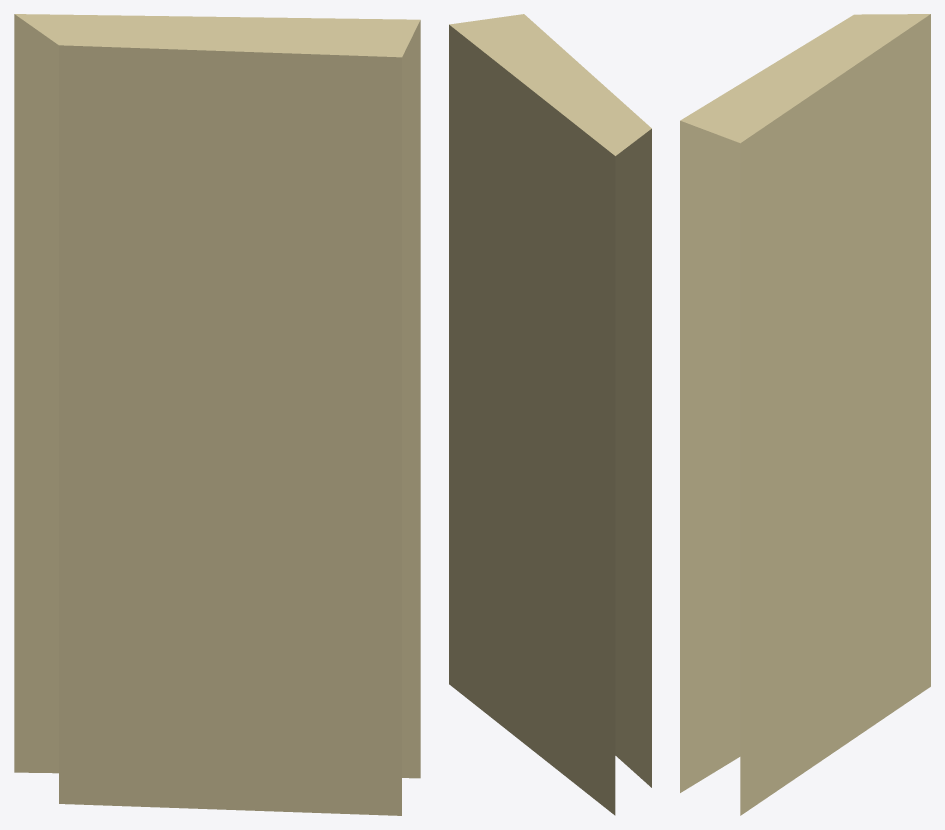
File: wall33.fbx
The picture shows the model from 3 angles, left to right: view 1: azimuth 30°, elevation 25°; view 2: azimuth 150°, elevation 25°; view 3: azimuth 270°, elevation 25°; orthographic projection. The views are drawn at different scales.
Visible parts, largest first — view 1: duvar.002; view 2: duvar.002; view 3: duvar.002.
Boxes of the visible parts, left/top/right/bottom form: duvar.002: left=14, top=14, right=420, bottom=815; duvar.002: left=449, top=14, right=651, bottom=815; duvar.002: left=680, top=14, right=930, bottom=815.
Bounding box in the file's own units: 12.41 × 30.12 × 10.17.
